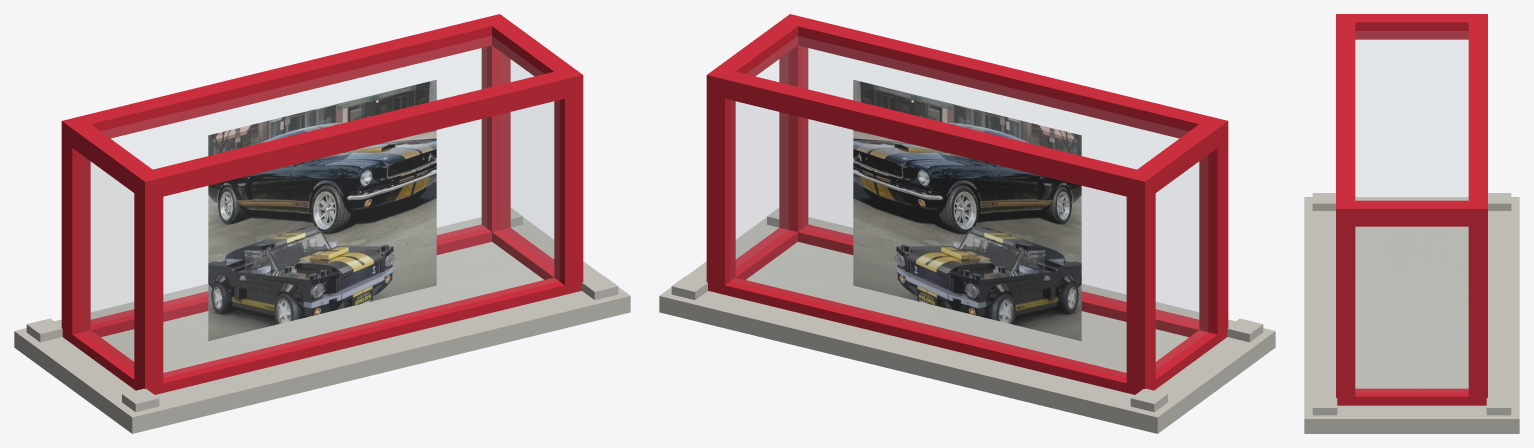
File: ford-shelby-gt350h.glb
3 renders of one model, left to right at view 1: azimuth 30°, elevation 25°; view 2: azimuth 150°, elevation 25°; view 3: azimuth 270°, elevation 25°, orthographic. The views are drawn at different scales.
Size of the model in its own units: 0.19 by 0.0845 by 0.078.
4 materials, 1 textured.
